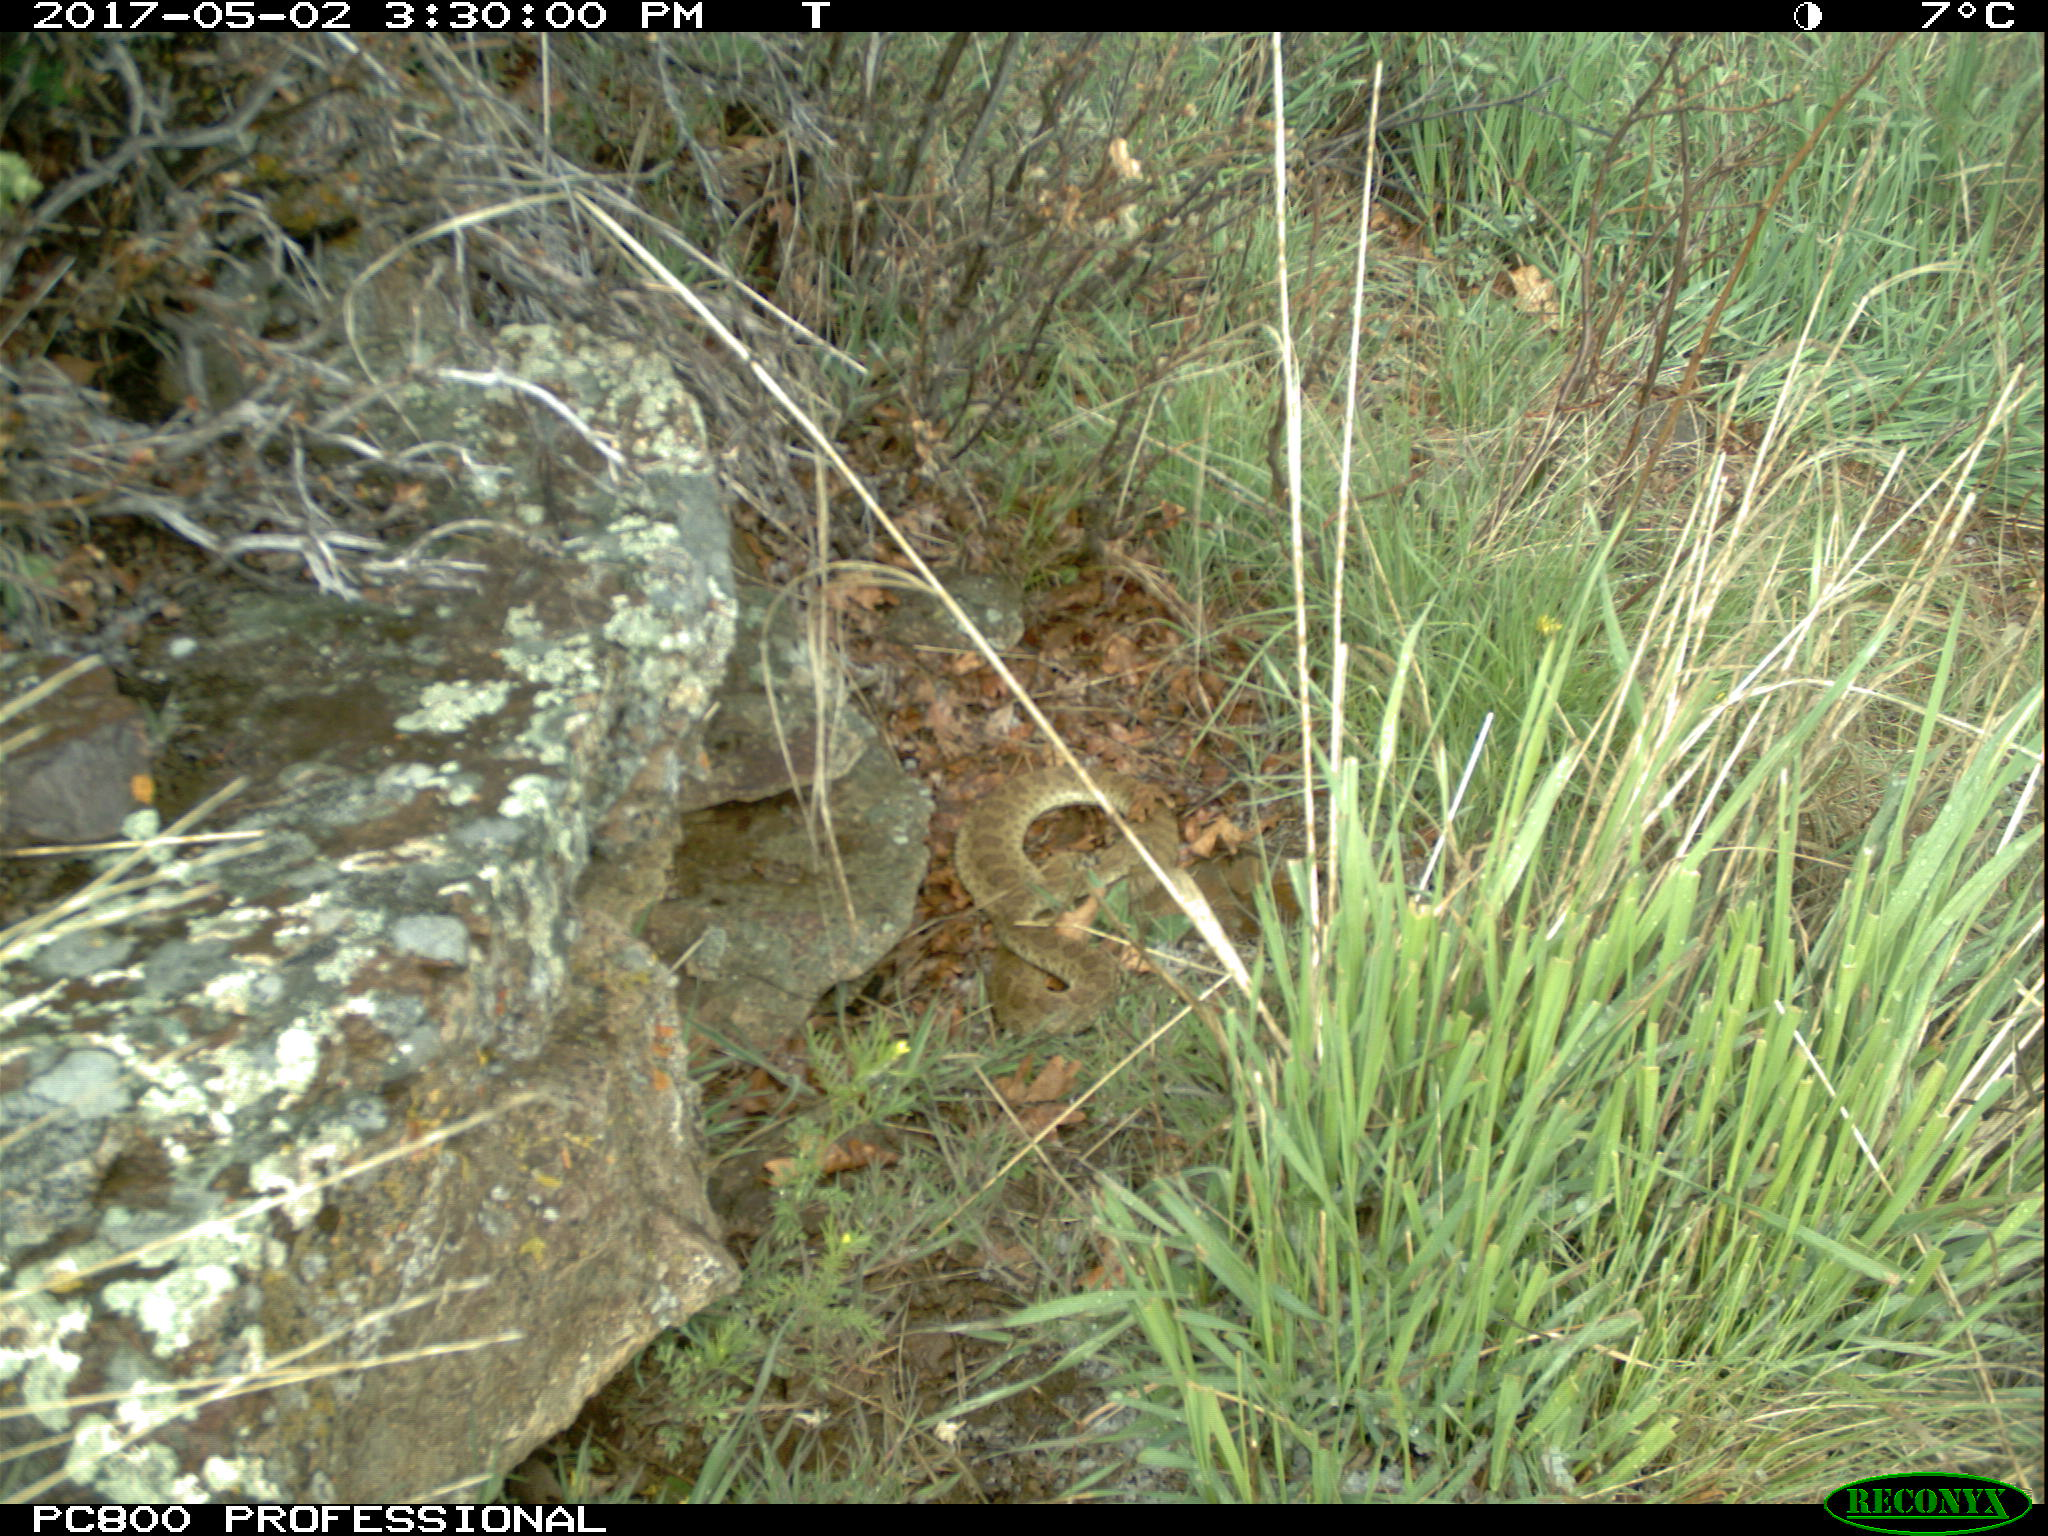snake: (926, 768, 1192, 1042)
